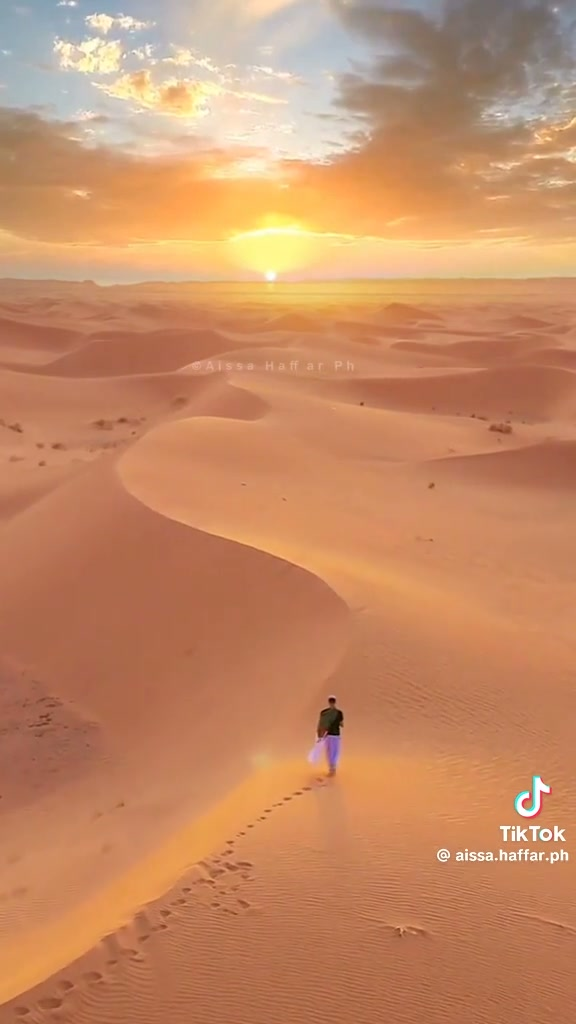human_footprint: (13, 777, 324, 1020), (193, 785, 313, 915), (12, 966, 106, 1021), (362, 914, 429, 938), (389, 925, 427, 937)
